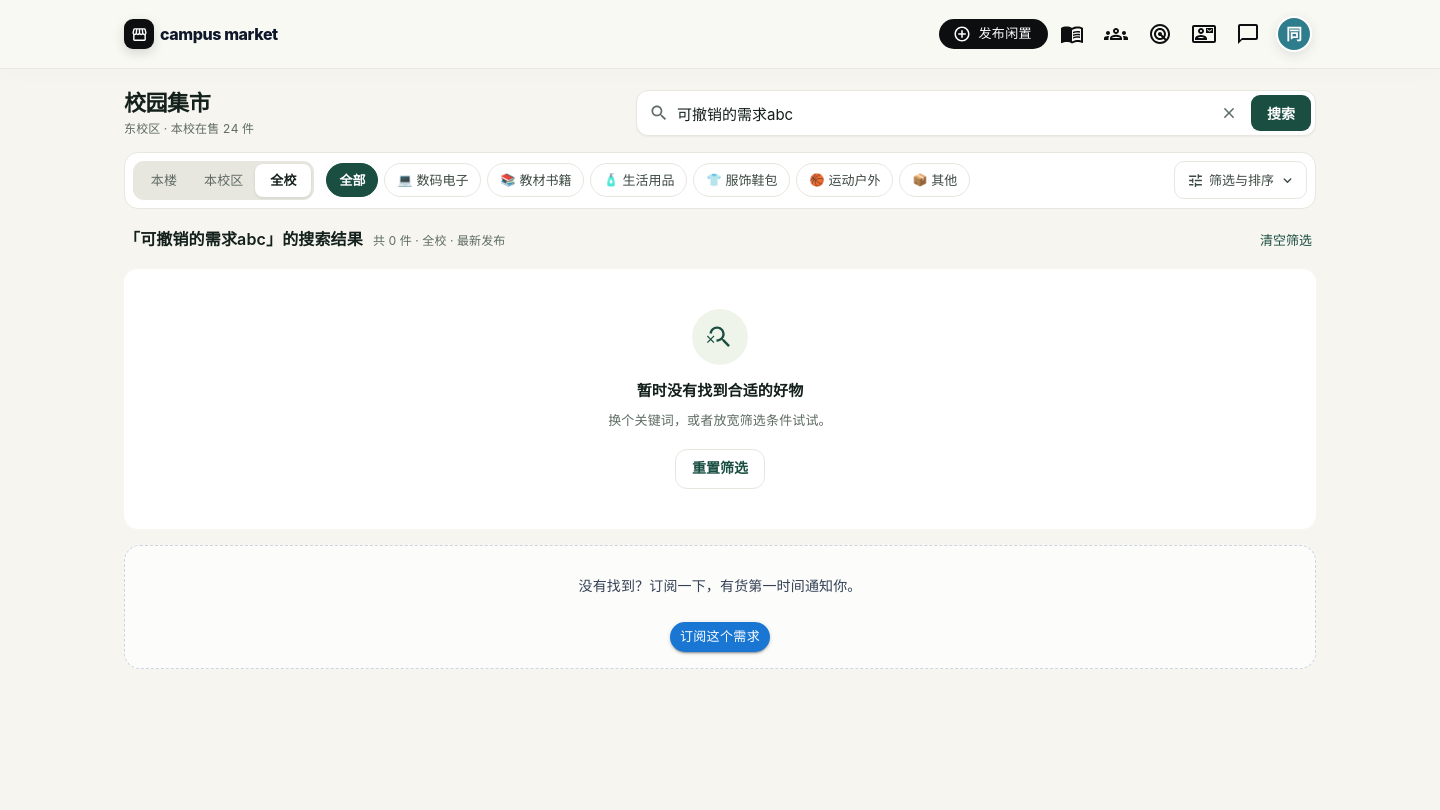
it: 2.5 搜索空态订阅入口 › 3. 创建后可撤销：订阅被停用
This screenshot has width=1440, height=810.
Click the button "订阅这个需求". click: (720, 637)
box: [670,622,770,652]
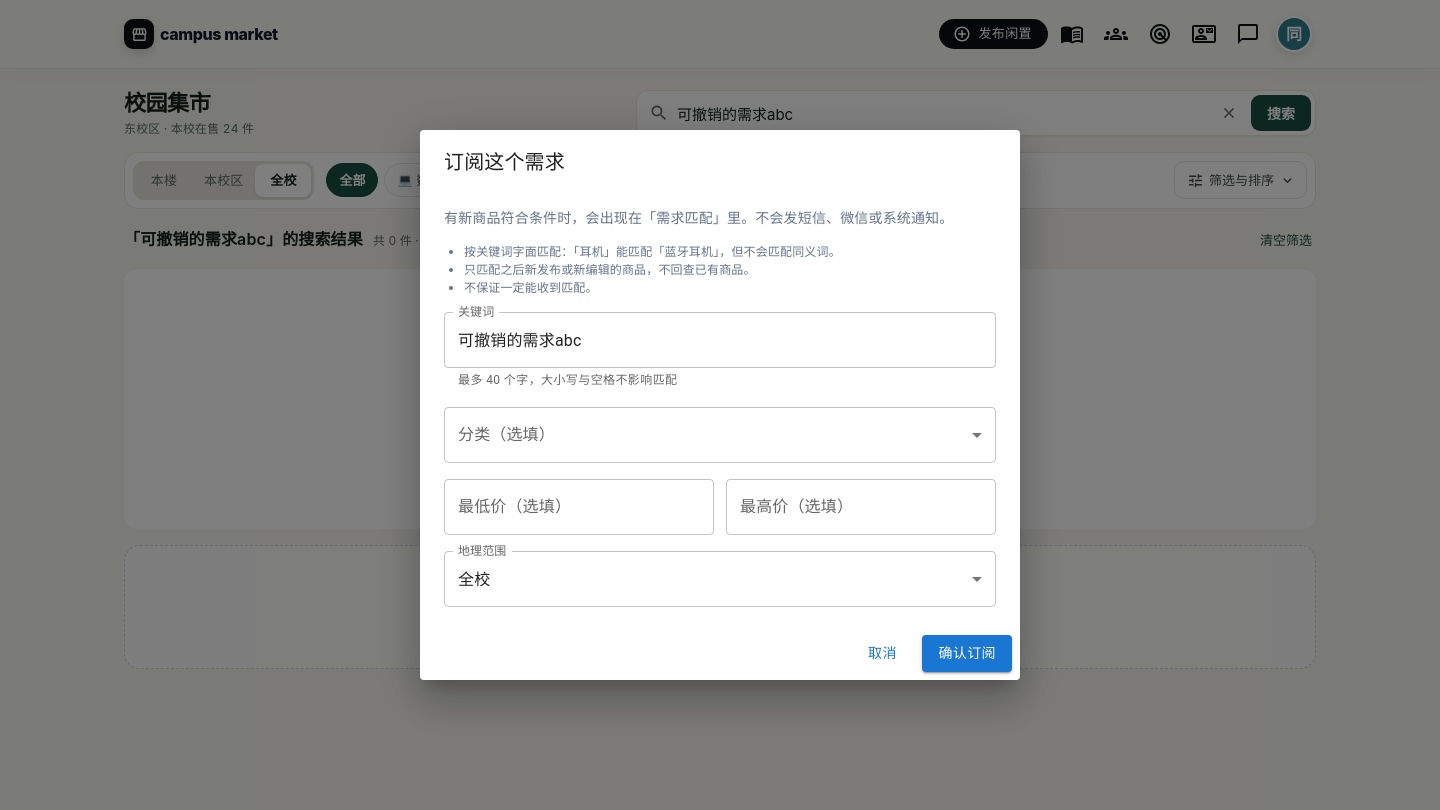
Click the button "确认订阅". click: (967, 653)
box: [922,635,1012,672]
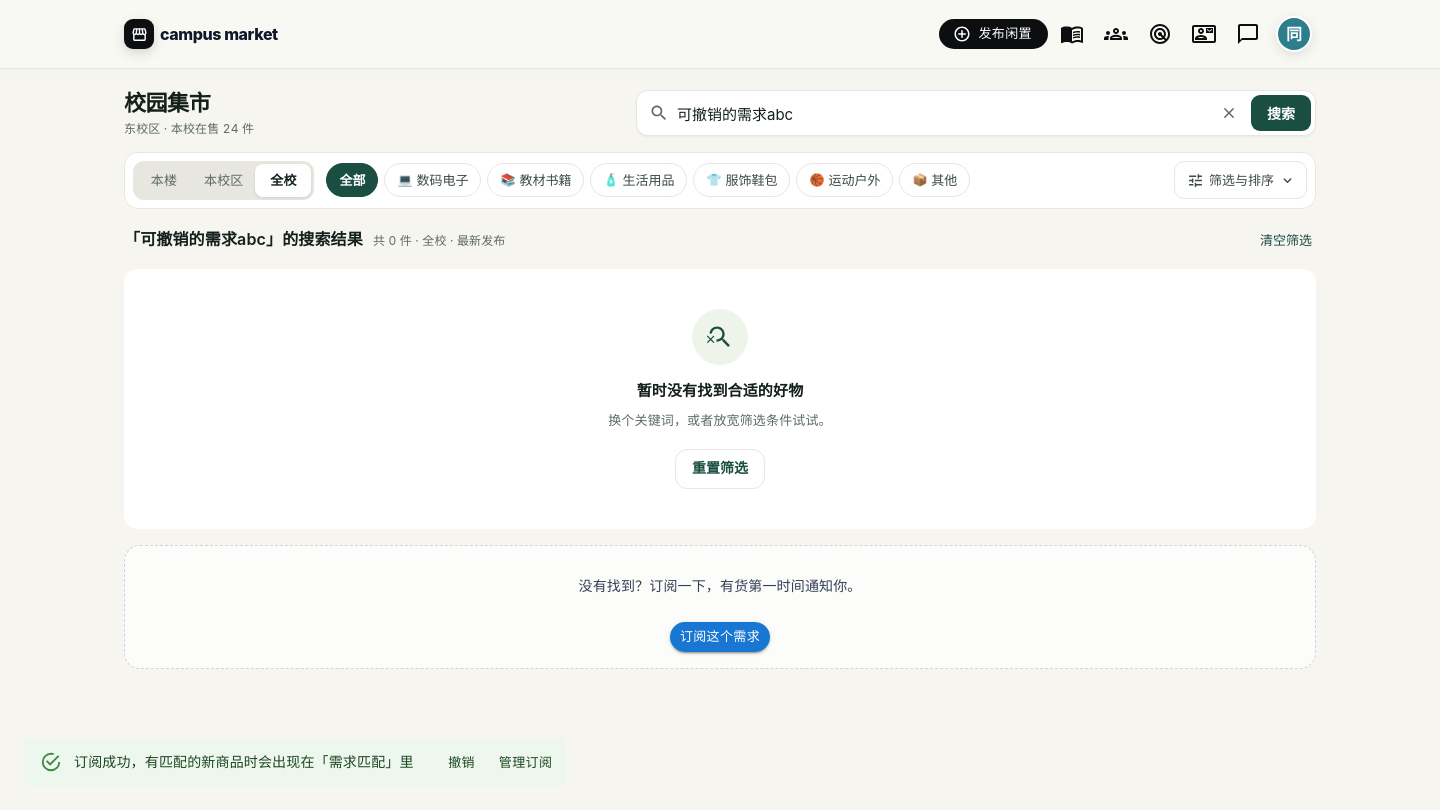
Click the button "撤销". click: (462, 763)
box: [430,748,494,779]
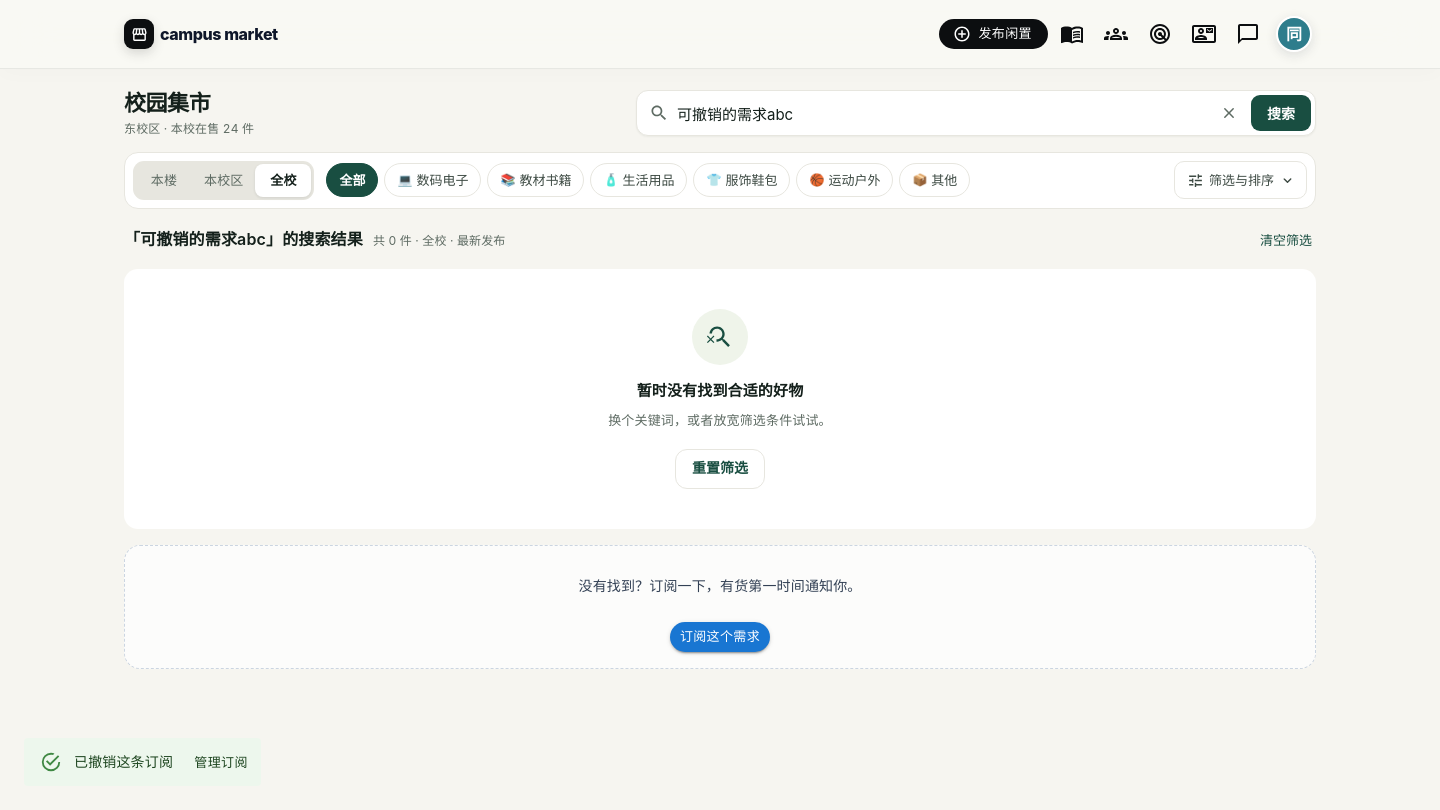
Expected: the text "已撤销这条订阅" is shown, [74,754,173,770]
